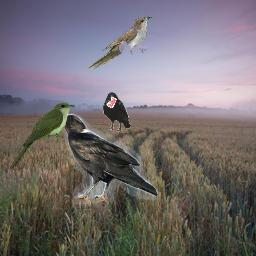Crow: (53, 113, 158, 209), (103, 92, 131, 133)
Cuckoo: (9, 102, 75, 171), (86, 16, 153, 69)
